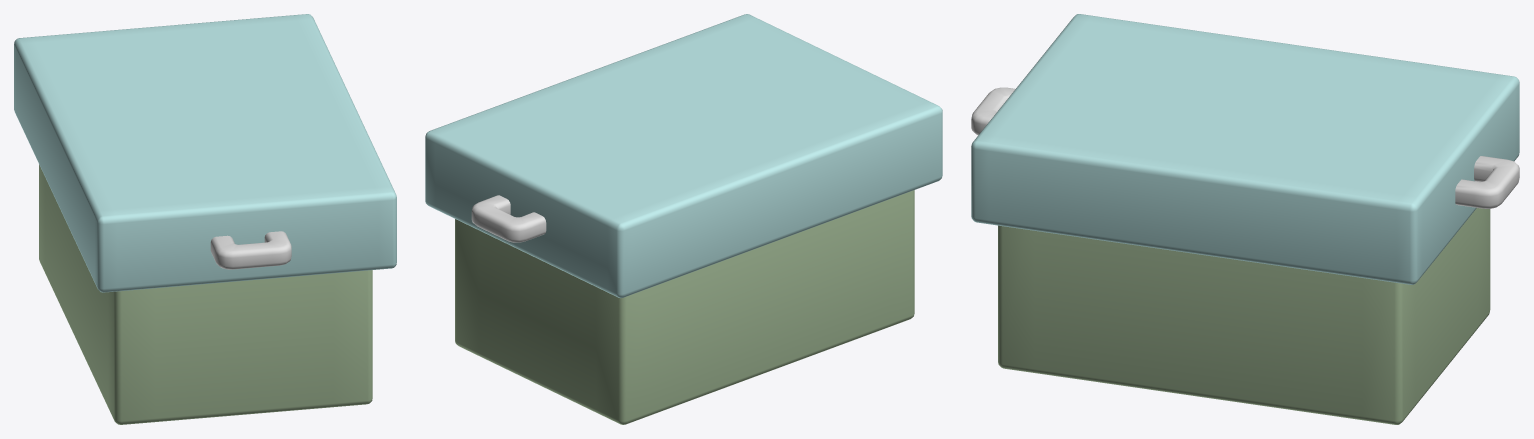
The model's file is toybox.gltf.
3 views of the same model, side by side, from view 1: azimuth 30°, elevation 25°; view 2: azimuth 150°, elevation 25°; view 3: azimuth 270°, elevation 25° (orthographic). The views are drawn at different scales.
Parts seen in each view (by area): view 1: 인형 상자 뚜껑 누르면 이거 살짝 위로 들려지게 해주셈, 인형상자, Cube; view 2: 인형 상자 뚜껑 누르면 이거 살짝 위로 들려지게 해주셈, 인형상자, Cube.1; view 3: 인형 상자 뚜껑 누르면 이거 살짝 위로 들려지게 해주셈, 인형상자, Cube.1, Cube.
Part boxes in pixels (x1,y1,x2,y2): 인형 상자 뚜껑 누르면 이거 살짝 위로 들려지게 해주셈: [14, 14, 396, 292]; 인형상자: [39, 164, 372, 424]; Cube: [210, 231, 291, 269]; 인형 상자 뚜껑 누르면 이거 살짝 위로 들려지게 해주셈: [425, 14, 942, 298]; 인형상자: [455, 190, 914, 424]; Cube.1: [471, 195, 546, 242]; 인형 상자 뚜껑 누르면 이거 살짝 위로 들려지게 해주셈: [971, 14, 1519, 284]; 인형상자: [998, 208, 1490, 424]; Cube.1: [1455, 156, 1519, 208]; Cube: [971, 87, 1015, 135].
Bounding box in the file's own units: 0.334 × 0.1881 × 0.3996.
